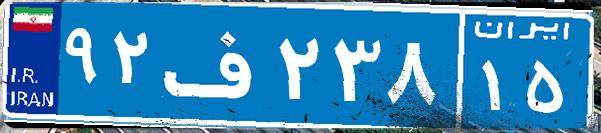1: (475, 38, 525, 113)
2: (273, 28, 330, 110), (110, 28, 158, 105)
3: (330, 28, 385, 110)
5: (525, 38, 570, 115)
8: (385, 28, 445, 110)
9: (57, 26, 110, 107)
ف: (158, 15, 273, 115)
